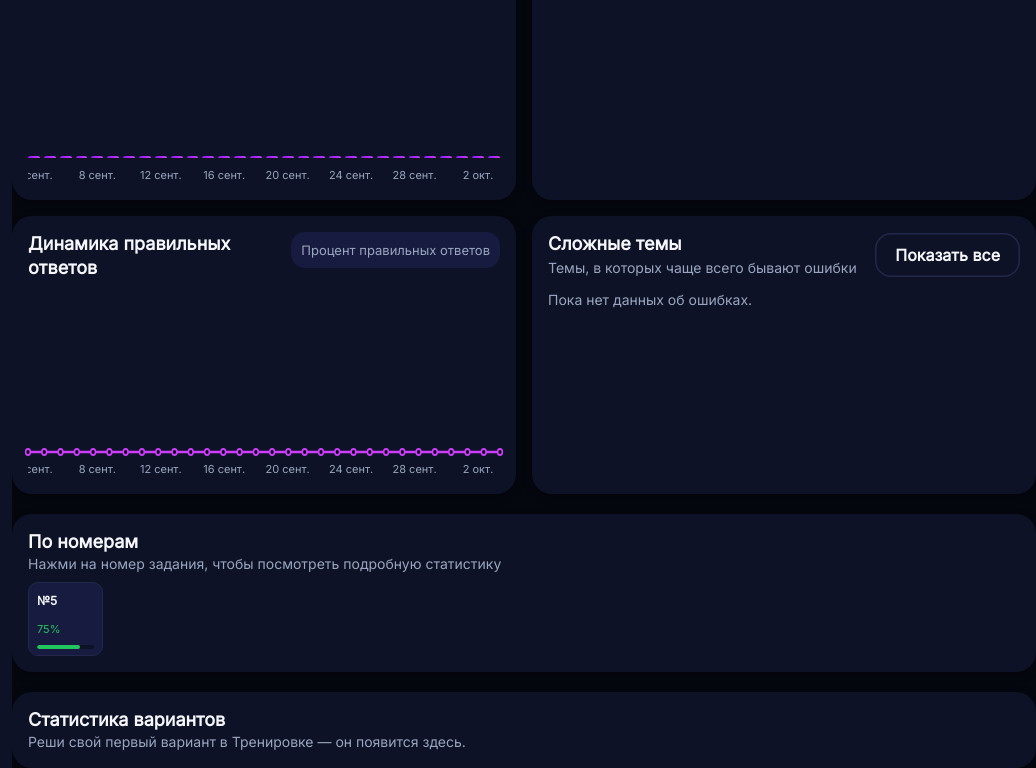
Test: StatisticsDesktop — По номерам detail (Statistics 2.0) › clicking a real task number opens its detail, with a working back button
(page scrolled)
Click the text "№5": (47, 601) [37,589,57,613]
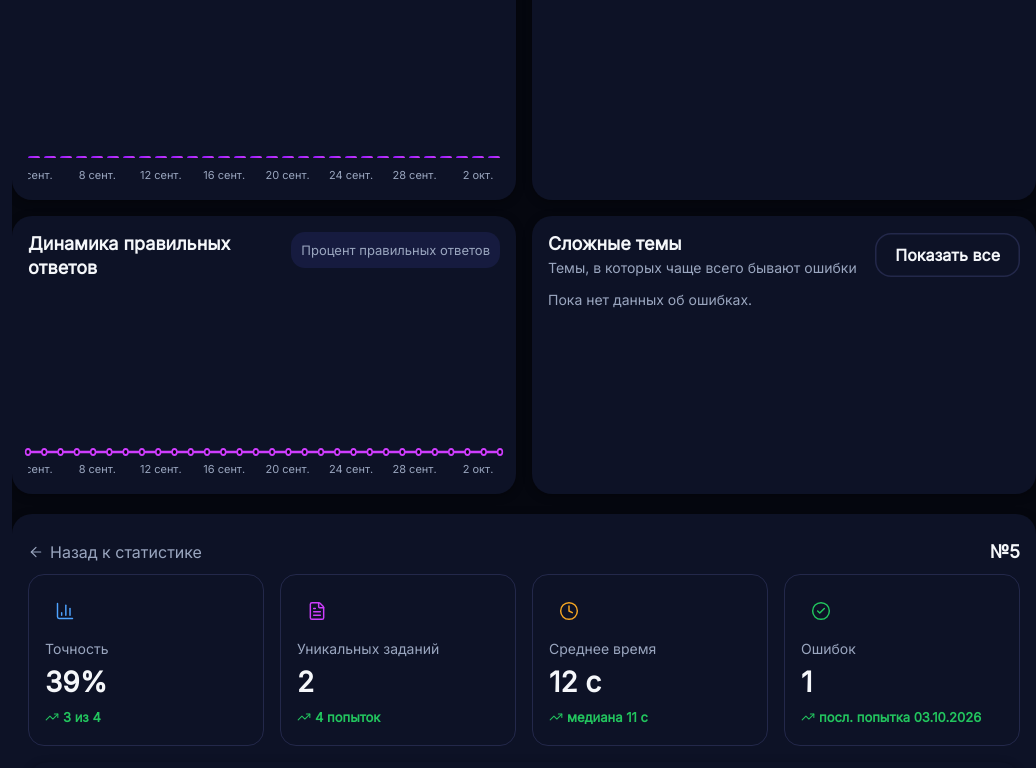
Now the text "3 из 4" is shown, box [45,709,101,725]
Click the button "Назад к статистике": (115, 552) [28,530,202,574]
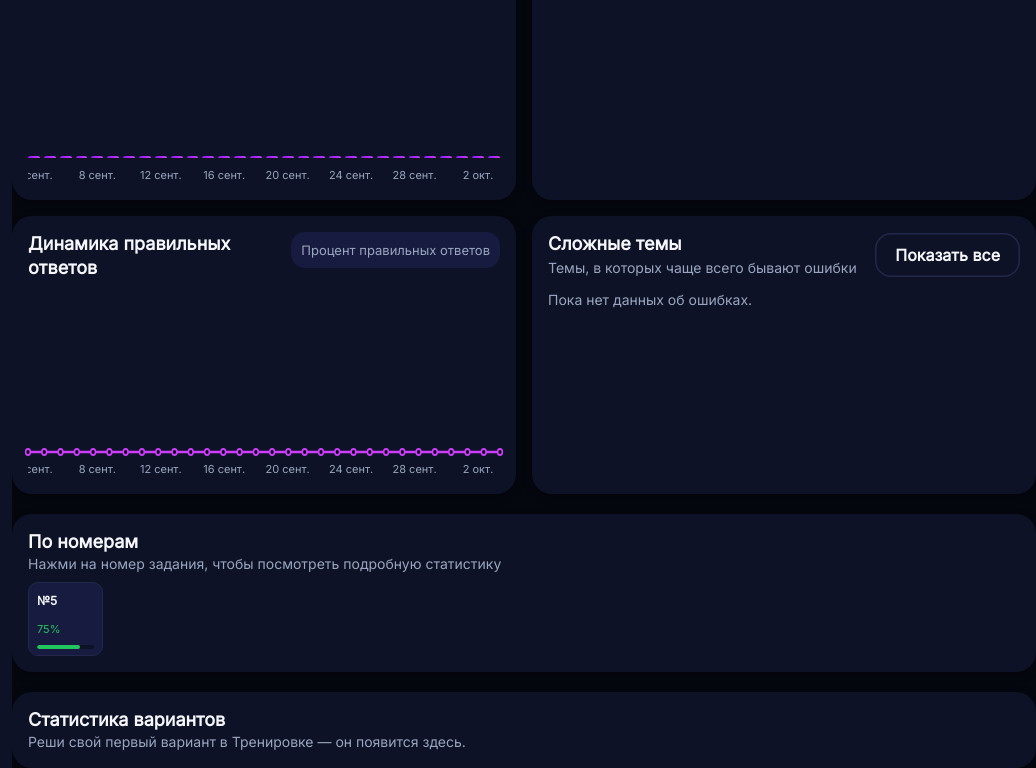
Now the button "Назад к статистике" is gone
